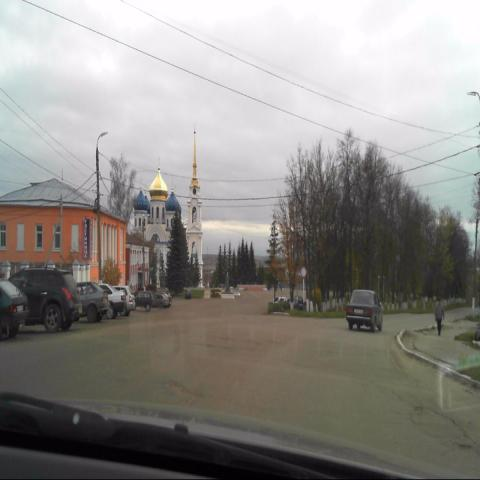3_2: (300, 264, 308, 279)
